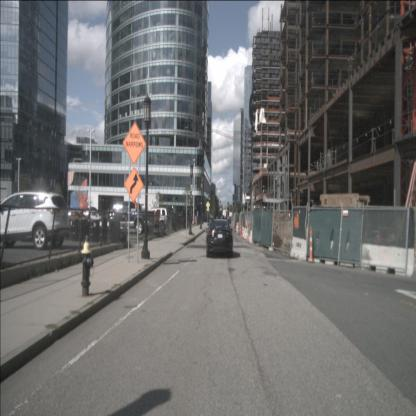movable_object-barrier: (361, 242, 415, 278), (290, 236, 307, 260), (249, 229, 253, 244)
movable_object-trafficcone: (308, 226, 315, 263), (246, 224, 250, 242), (240, 222, 244, 239), (236, 222, 240, 234), (239, 222, 242, 236)
vehicle-car: (0, 191, 70, 249), (206, 218, 233, 258), (143, 208, 169, 231), (68, 210, 90, 227), (82, 210, 104, 226)
vehicle-truck: (100, 201, 160, 235)
